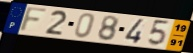0: (72, 13, 96, 40)
2: (44, 10, 69, 37)
4: (123, 18, 147, 45)
5: (146, 18, 173, 48)
8: (96, 15, 119, 42)
F: (17, 6, 51, 33)
